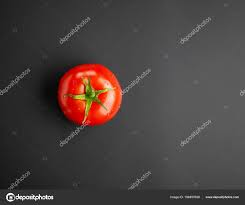tomato: (58, 63, 123, 126)
